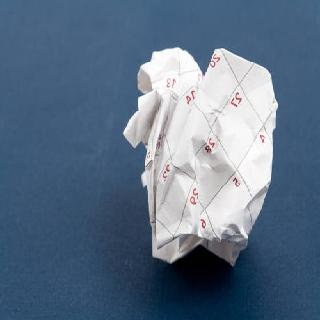8/可回收垃圾/纸: (122, 46, 278, 265)
